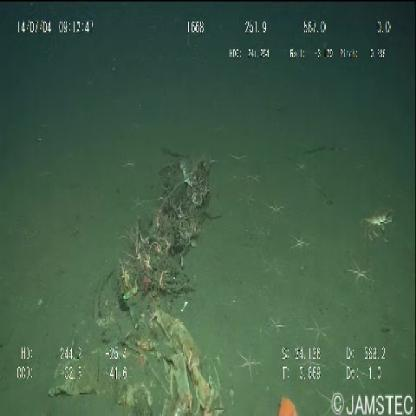Rác: (49, 295, 227, 415)
